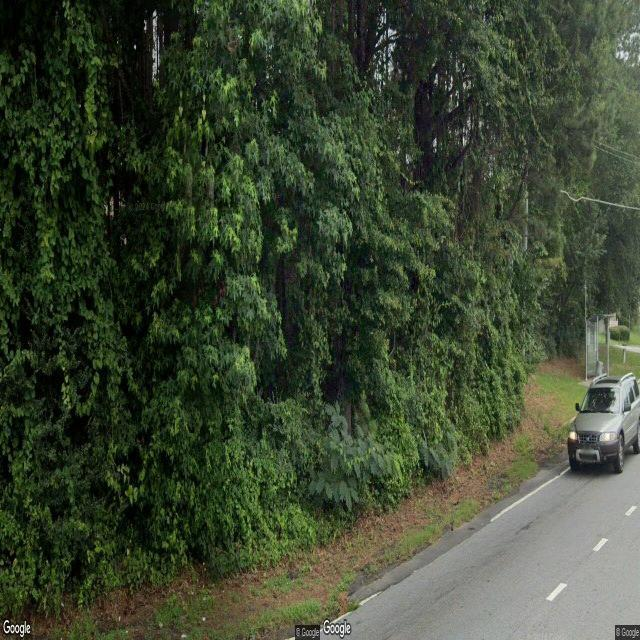shelter: (584, 313, 616, 383)
trash_can: (596, 360, 602, 379)
